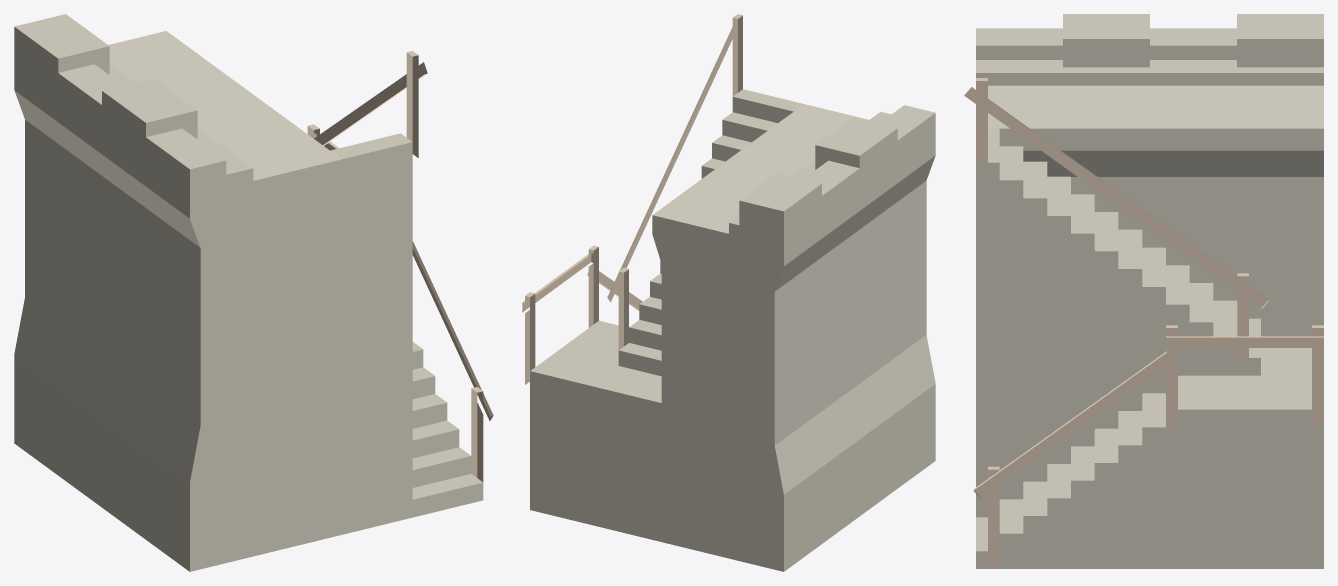
The model's file is wallNarrowStairsFence.glb.
3 renders of one model, left to right at view 1: azimuth 30°, elevation 25°; view 2: azimuth 150°, elevation 25°; view 3: azimuth 270°, elevation 25°, orthographic. The views are drawn at different scales.
Visible parts, largest first — view 1: wallNarrowStairsFence, rail 13; view 2: wallNarrowStairsFence, rail 13; view 3: wallNarrowStairsFence, rail 13.
Part boxes in pixels (<box>): wallNarrowStairsFence: <box>14,14,483,571</box>; rail 13: <box>307,51,493,481</box>; wallNarrowStairsFence: <box>530,89,935,571</box>; rail 13: <box>522,14,742,384</box>; wallNarrowStairsFence: <box>976,14,1323,568</box>; rail 13: <box>964,78,1323,568</box>.
Bounding box in the file's own units: 9.95 × 14.48 × 10.34.
